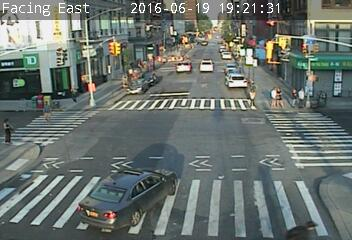neg: (143, 25, 163, 51), (173, 56, 192, 81), (305, 36, 323, 61), (103, 27, 121, 51), (235, 32, 252, 56), (269, 38, 283, 56), (219, 51, 227, 61)
pos: (259, 86, 278, 110), (296, 86, 313, 110), (39, 99, 56, 122), (284, 86, 301, 109), (244, 85, 260, 107), (275, 85, 291, 106), (67, 82, 82, 102)
